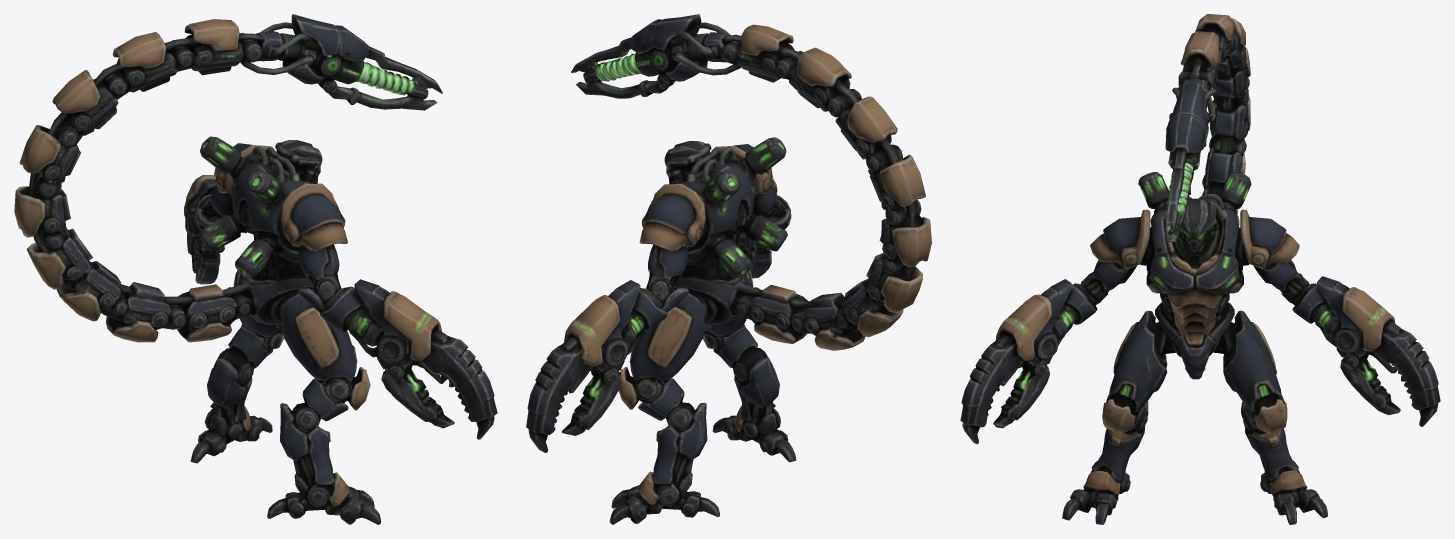
File: 09644c4a-ec3f-45cb-be11-91056907e615-model_url.glb
3 renders of one model, left to right at view 1: azimuth 30°, elevation 25°; view 2: azimuth 150°, elevation 25°; view 3: azimuth 270°, elevation 25°, orthographic. The views are drawn at different scales.
Visible parts, largest first — view 1: tripo_node_e17c2621-00d0-4110-bd7f-5fdc38771e94; view 2: tripo_node_e17c2621-00d0-4110-bd7f-5fdc38771e94; view 3: tripo_node_e17c2621-00d0-4110-bd7f-5fdc38771e94.
Part boxes in pixels (x1=…): tripo_node_e17c2621-00d0-4110-bd7f-5fdc38771e94: x1=14, y1=14, x2=497, y2=524; tripo_node_e17c2621-00d0-4110-bd7f-5fdc38771e94: x1=526, y1=14, x2=931, y2=524; tripo_node_e17c2621-00d0-4110-bd7f-5fdc38771e94: x1=960, y1=14, x2=1440, y2=524.
Bounding box in the file's own units: 0.8708 × 1 × 0.9941.
1 material, 1 textured.
